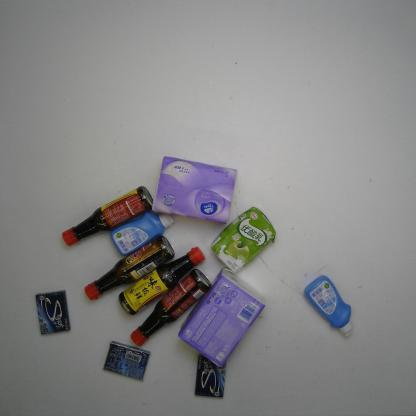Gum: (102, 340, 151, 381), (35, 289, 71, 336), (193, 354, 228, 399)
Milk: (209, 205, 278, 274)
Personal Hygiene: (302, 275, 355, 338), (109, 210, 175, 257)
Seasoner: (129, 268, 212, 347), (118, 246, 206, 316), (83, 235, 175, 301), (61, 186, 154, 247)
Tissue: (177, 267, 267, 368), (150, 155, 239, 225)
